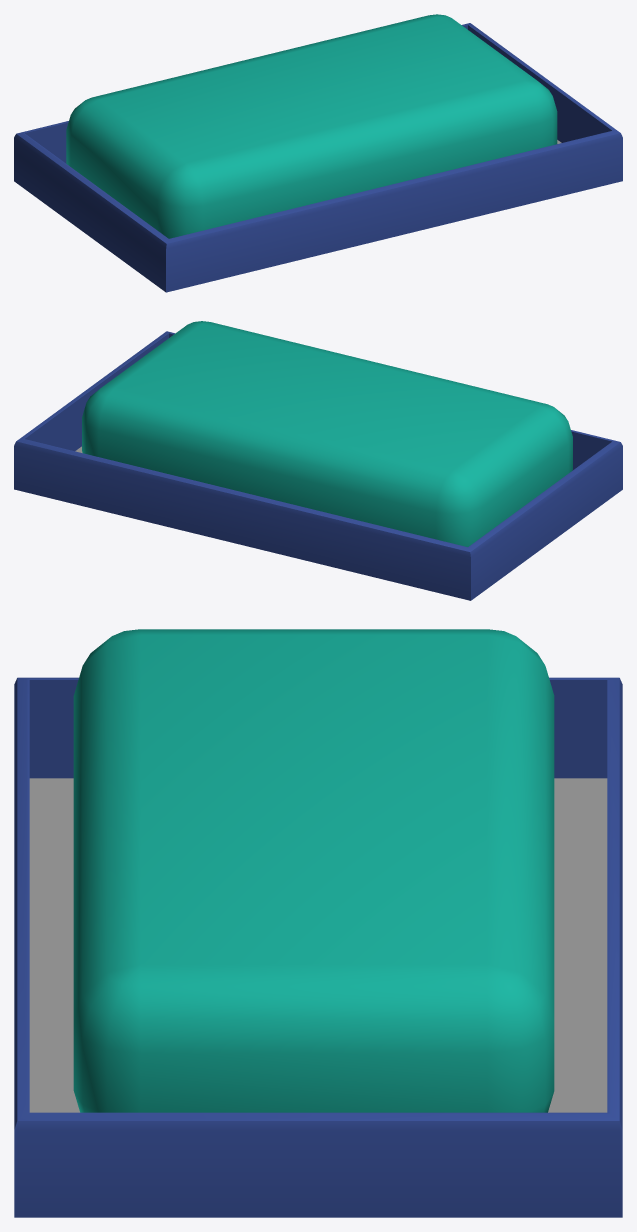
File: Pastilla de jabón 1.fbx
The picture shows the model from 3 angles, top to bottom: view 1: azimuth 30°, elevation 25°; view 2: azimuth 150°, elevation 25°; view 3: azimuth 270°, elevation 25°; orthographic projection. The views are drawn at different scales.
Parts seen in each view (by area): view 1: Pastilla de Jabón; view 2: Pastilla de Jabón; view 3: Pastilla de Jabón.
Boxes of the visible parts, left/top/right/bottom form: Pastilla de Jabón: left=14, top=14, right=622, bottom=292; Pastilla de Jabón: left=14, top=321, right=622, bottom=600; Pastilla de Jabón: left=14, top=629, right=622, bottom=1217.
Bounding box in the file's own units: 16.99 × 3.33 × 9.8.
